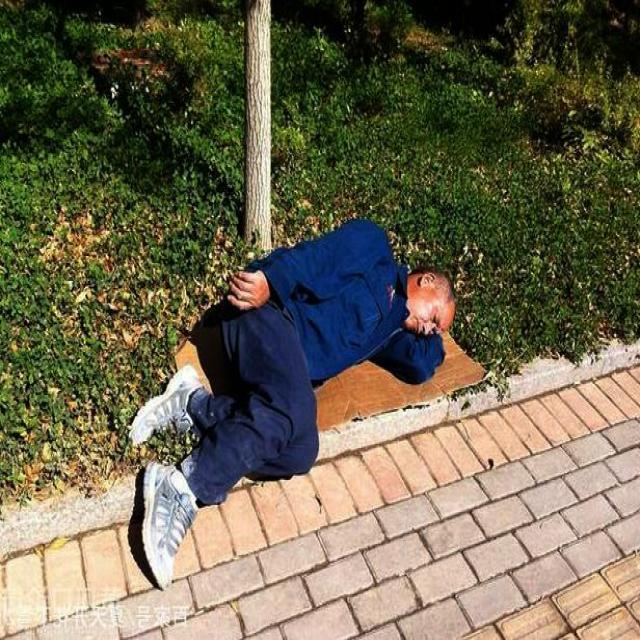fall: (148, 230, 460, 542)
